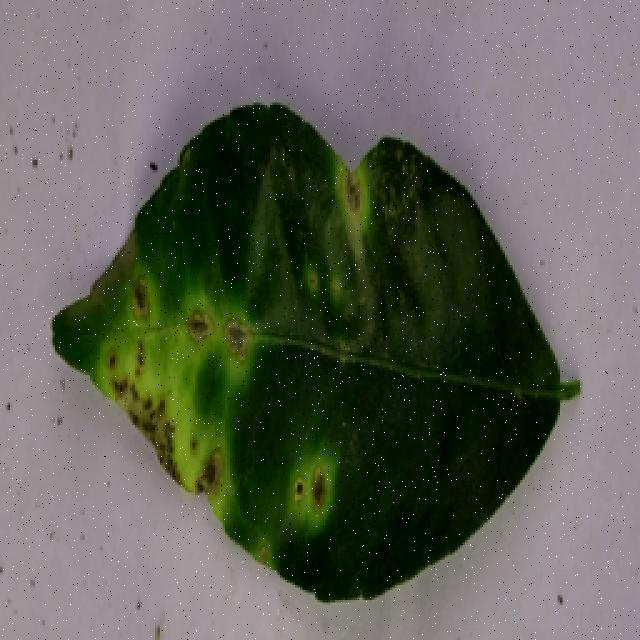canker: (59, 135, 498, 570)
